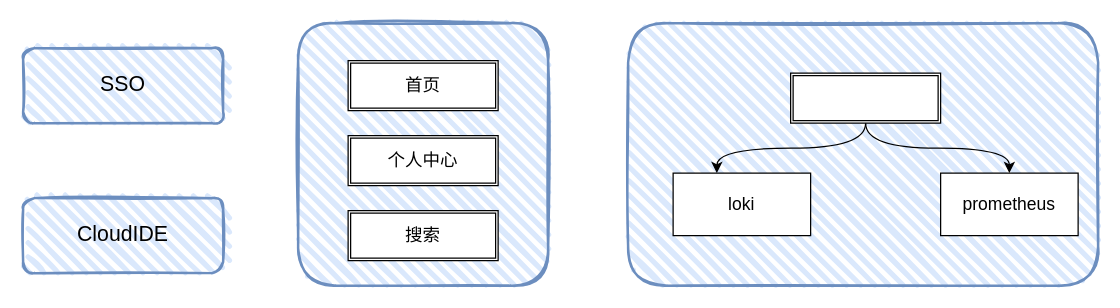
This 1120x308 diagram has some shape labels left out. Here are the shapes that lost their labels. From the top down, the box of each, then its label:
(789, 72, 941, 123): grafana
(296, 21, 549, 286): 主站
(626, 21, 1099, 286): 日志监控
